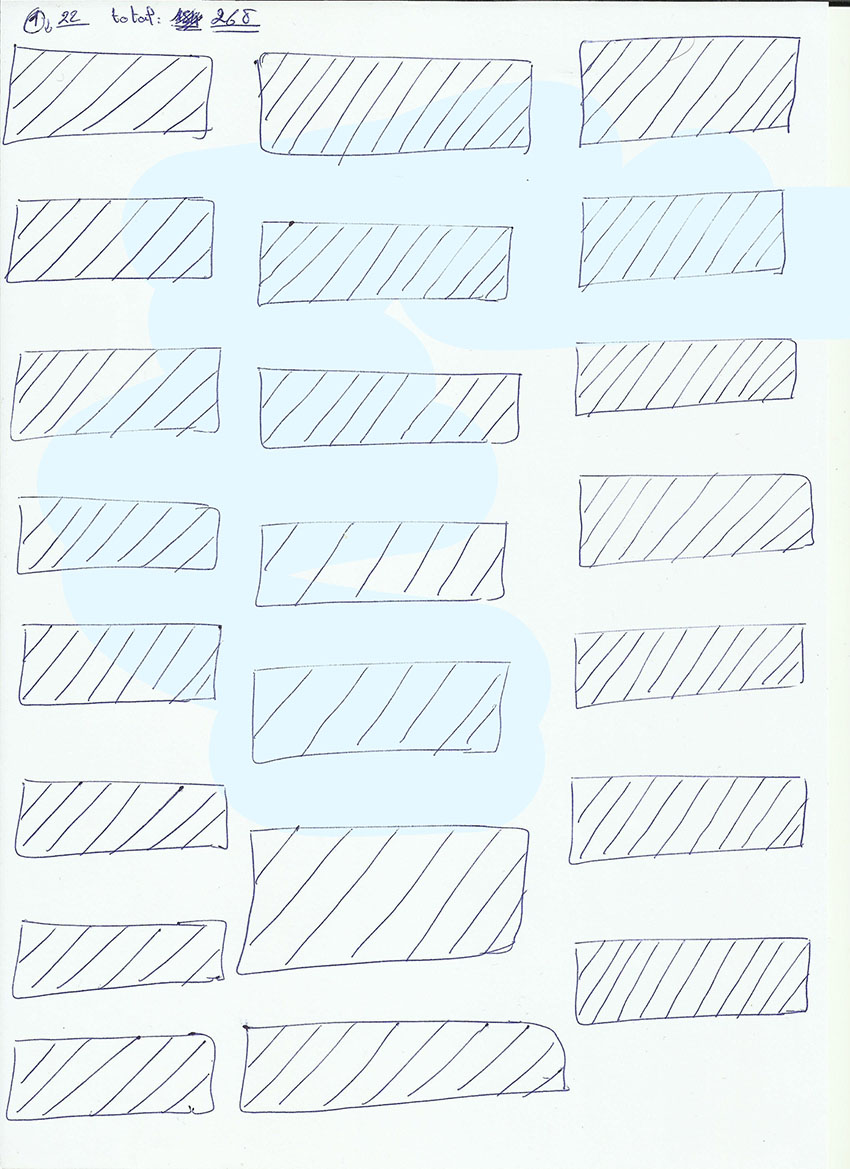frame: (233, 823, 531, 979), (251, 46, 536, 162), (237, 1017, 567, 1113), (248, 656, 514, 767), (573, 30, 802, 150), (254, 216, 514, 311), (252, 360, 523, 450), (252, 515, 510, 609), (574, 469, 816, 569), (566, 771, 808, 867), (575, 186, 788, 294), (1, 40, 217, 146), (570, 935, 812, 1028), (568, 619, 807, 712), (7, 343, 227, 441), (4, 193, 217, 287), (4, 1033, 220, 1124), (570, 334, 799, 419), (17, 617, 224, 709), (10, 915, 226, 1002), (12, 773, 229, 858), (13, 492, 224, 575)
